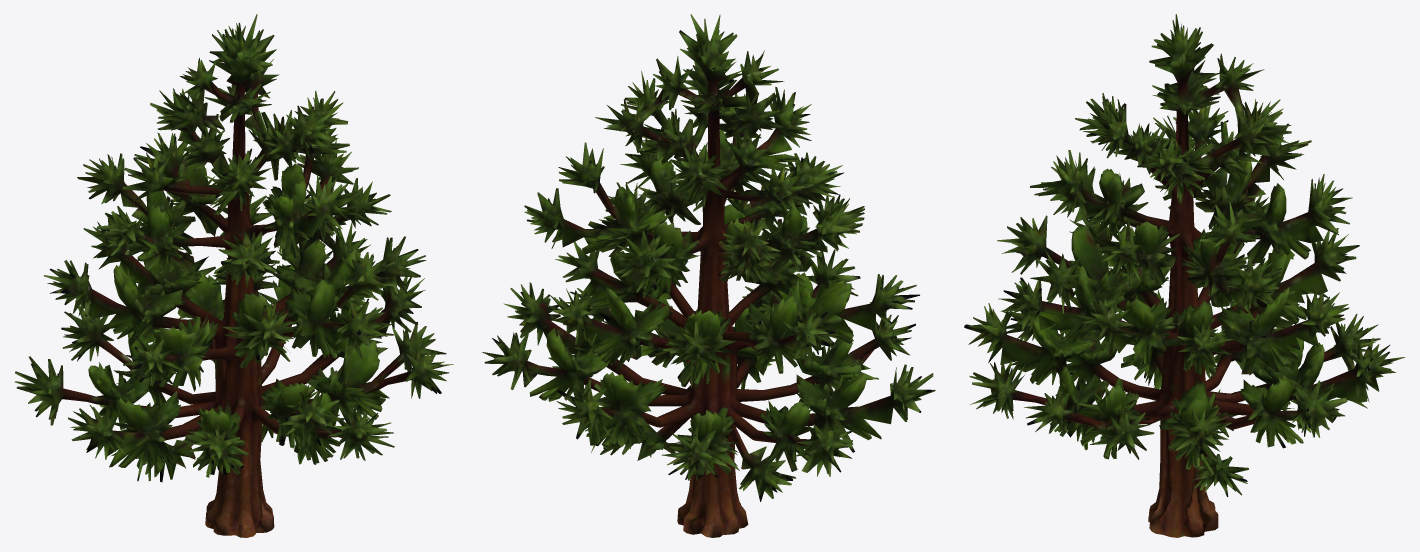
File: tree-3.glb
3 renders of one model, left to right at view 1: azimuth 30°, elevation 25°; view 2: azimuth 150°, elevation 25°; view 3: azimuth 270°, elevation 25°, orthographic.
Parts seen in each view (by area): view 1: tripo_node_404a7c70-3e01-4533-b664-39d9a57ca3d2; view 2: tripo_node_404a7c70-3e01-4533-b664-39d9a57ca3d2; view 3: tripo_node_404a7c70-3e01-4533-b664-39d9a57ca3d2.
Part boxes in pixels (<box>): tripo_node_404a7c70-3e01-4533-b664-39d9a57ca3d2: <box>14,14,453,537</box>; tripo_node_404a7c70-3e01-4533-b664-39d9a57ca3d2: <box>482,14,935,537</box>; tripo_node_404a7c70-3e01-4533-b664-39d9a57ca3d2: <box>964,14,1405,537</box>.
Bounding box in the file's own units: 0.7851 × 0.9761 × 0.7698.
Materials: 1 (1 with a texture image).
